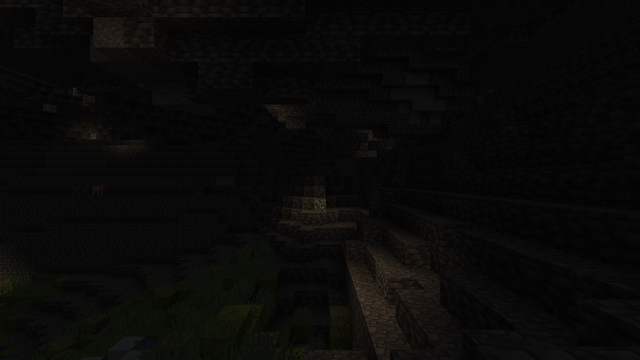cochons: (91, 186, 102, 194)
